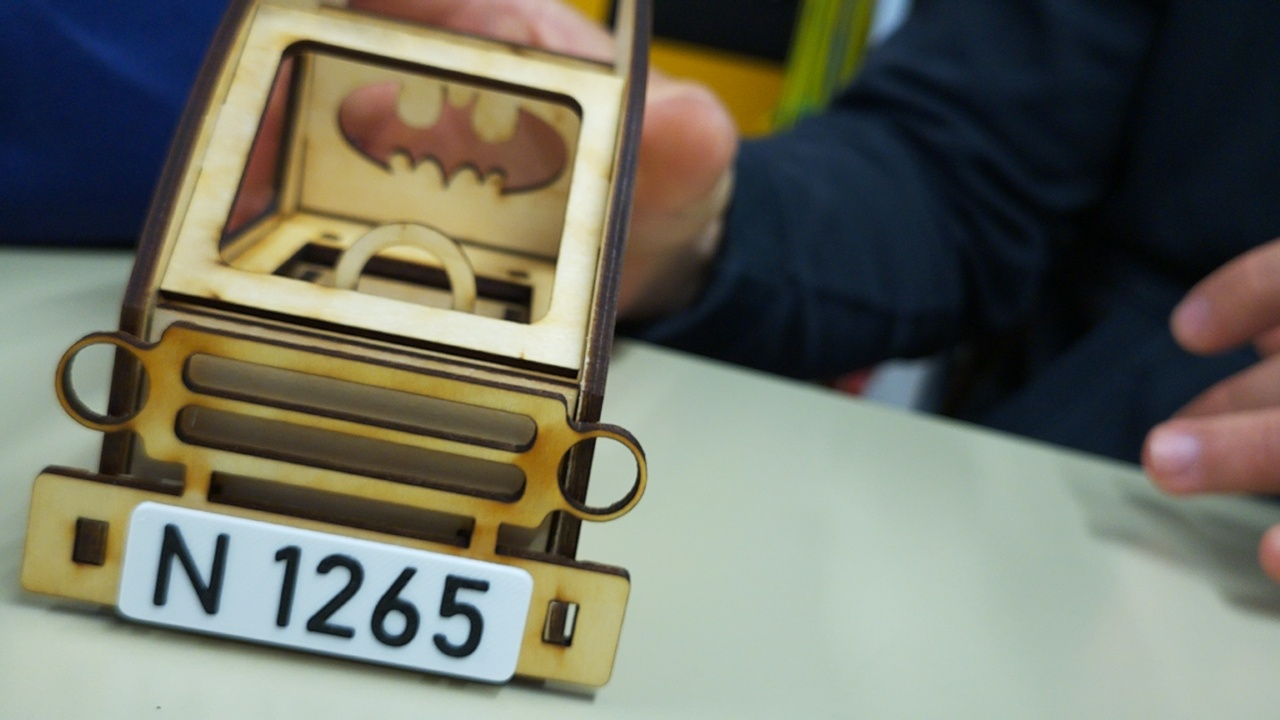license_plate: (115, 497, 538, 689)
